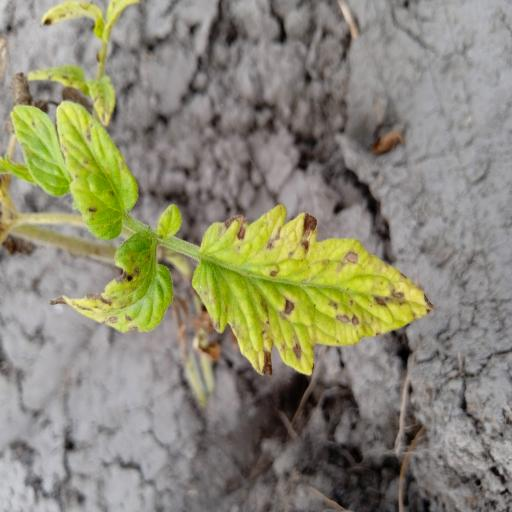Tomato_Brown_Spots: (190, 197, 432, 377), (54, 94, 142, 246), (52, 230, 177, 337)
